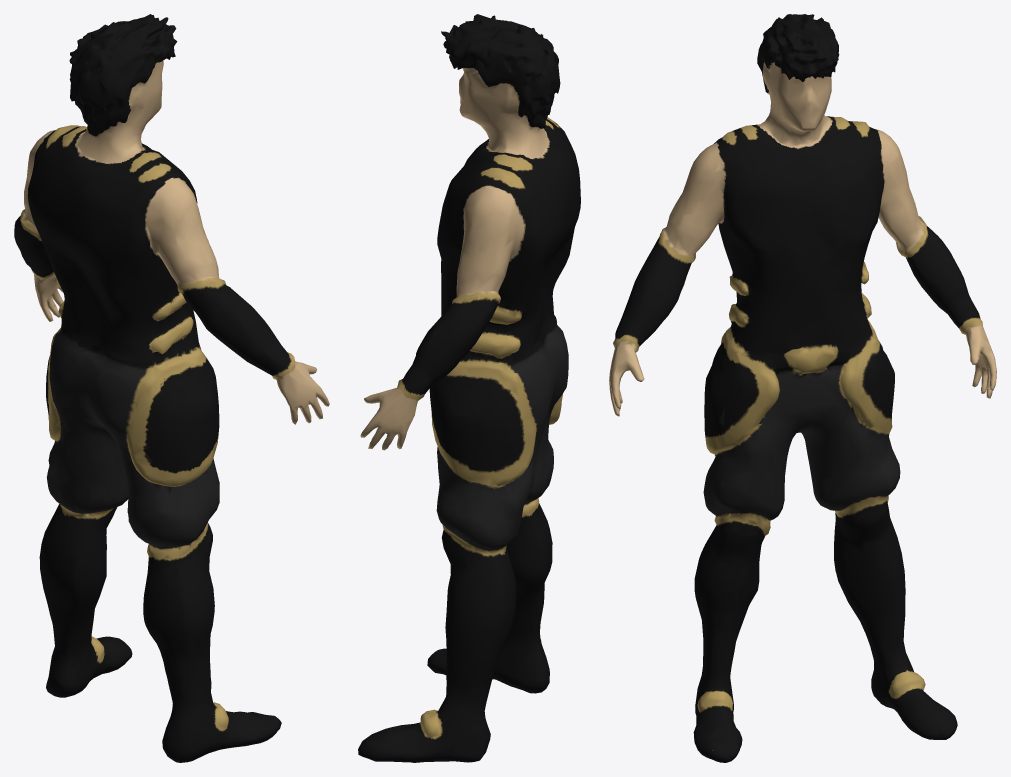
Rendered from Tan FBX 10.fbx.
3 views of the same model, side by side, from view 1: azimuth 30°, elevation 25°; view 2: azimuth 150°, elevation 25°; view 3: azimuth 270°, elevation 25° (orthographic).
Visible parts, largest first — view 1: Tan; view 2: Tan; view 3: Tan.
Boxes of the visible parts, bbox=[...] form: Tan: bbox=[14, 14, 329, 762]; Tan: bbox=[358, 14, 580, 762]; Tan: bbox=[609, 14, 996, 762].
Bounding box in the file's own units: 0.4582 × 0.86 × 1.7.
